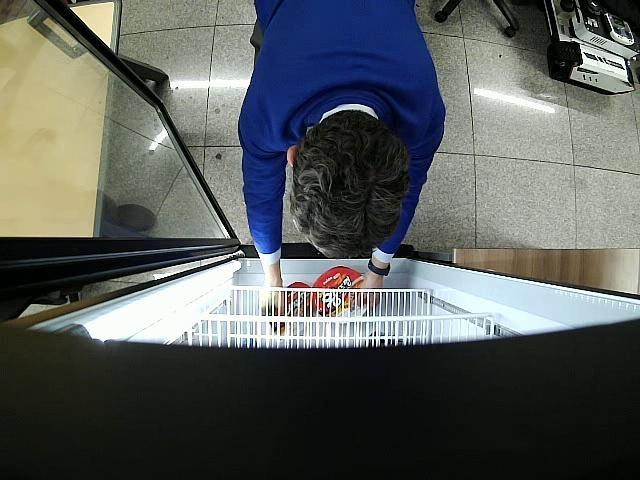10_wangTtukkeong: (312, 266, 368, 324), (273, 280, 316, 319)
